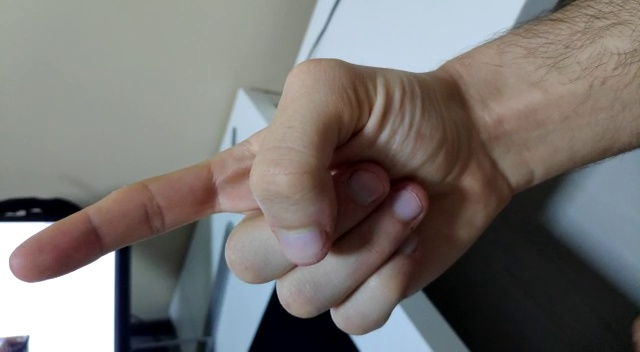One: (5, 1, 539, 346)
